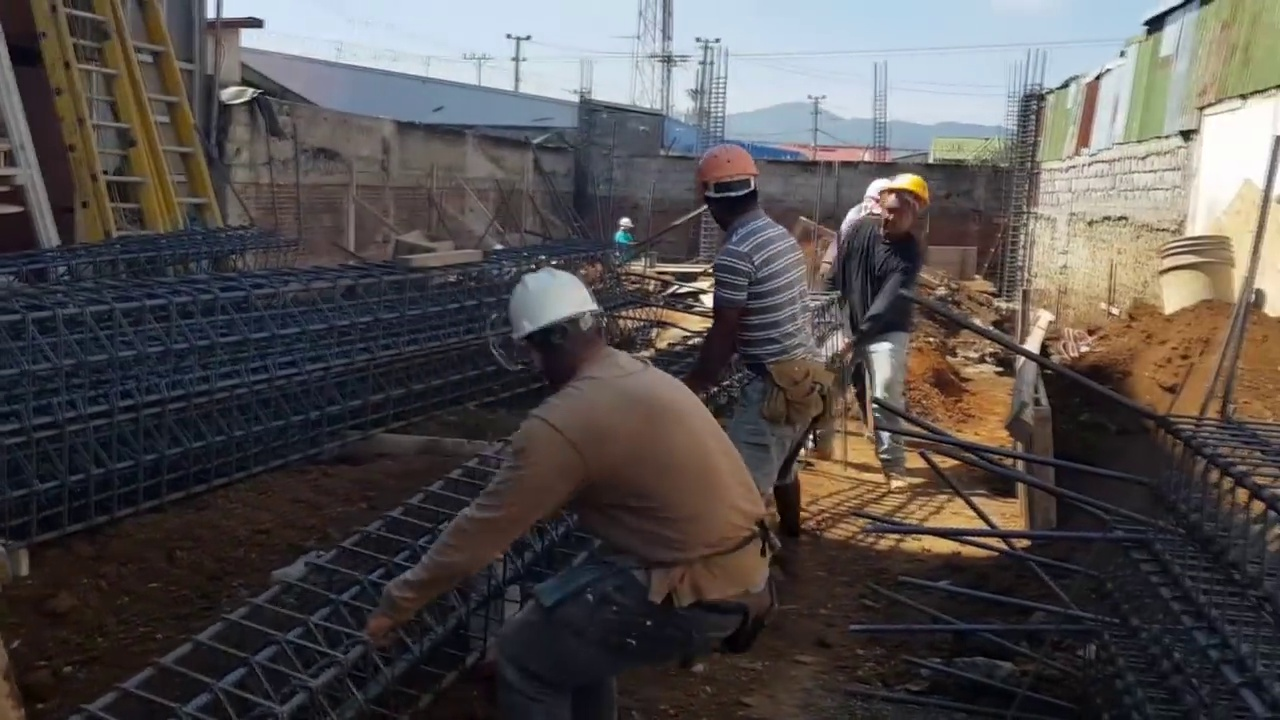helmet: (499, 258, 603, 347), (695, 142, 770, 197), (875, 176, 933, 221)
helmet-on: (499, 261, 615, 387), (694, 138, 771, 237), (870, 174, 931, 237)
person: (350, 242, 775, 687), (682, 149, 807, 516), (831, 154, 932, 462), (609, 220, 636, 262)
